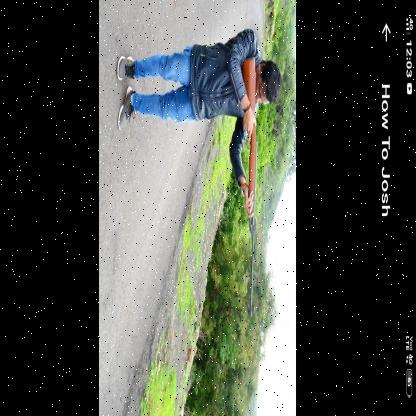rifle: (240, 55, 258, 319)
